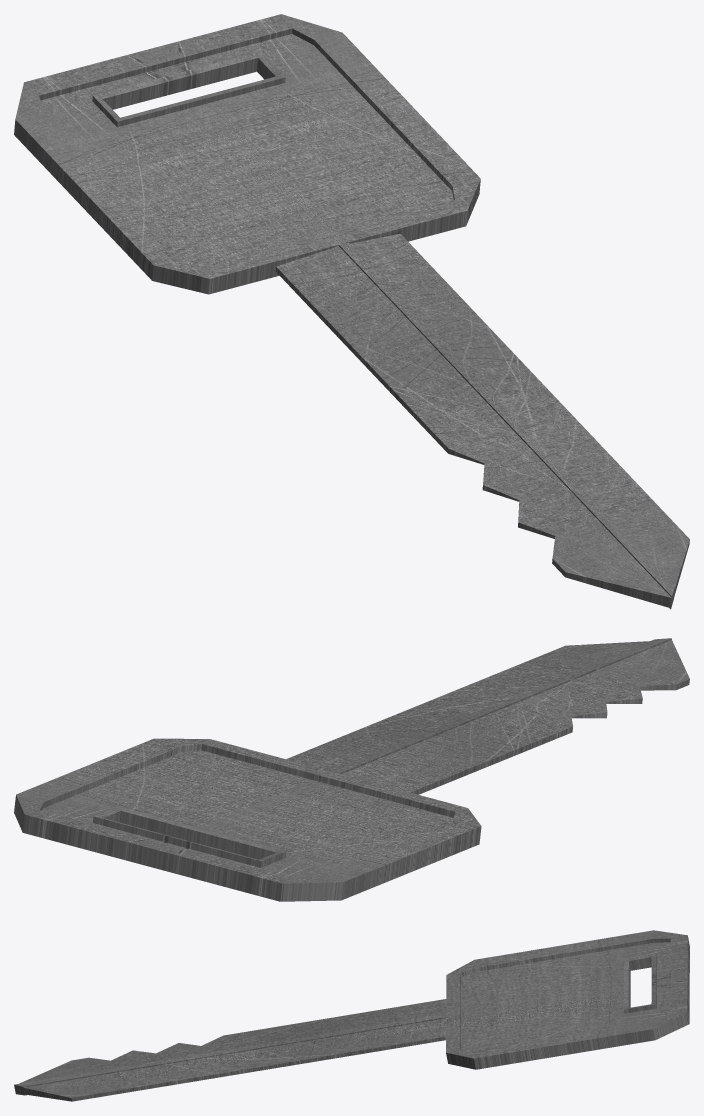
File: key1.fbx
3 renders of one model, top to bottom at view 1: azimuth 30°, elevation 25°; view 2: azimuth 150°, elevation 25°; view 3: azimuth 270°, elevation 25°, orthographic. The views are drawn at different scales.
Parts seen in each view (by area): view 1: Key 1; view 2: Key 1; view 3: Key 1.
Boxes of the visible parts, x1=… form: Key 1: x1=14, y1=14, x2=689, y2=609; Key 1: x1=14, y1=638, x2=689, y2=901; Key 1: x1=14, y1=930, x2=689, y2=1101.
Size of the model in its own units: 3.6 by 1.96 by 9.9.
